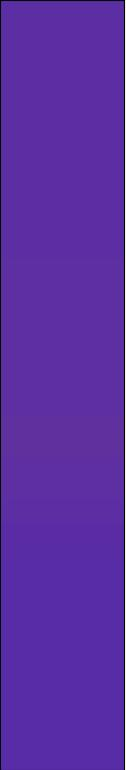safe: (5, 10, 121, 761)
